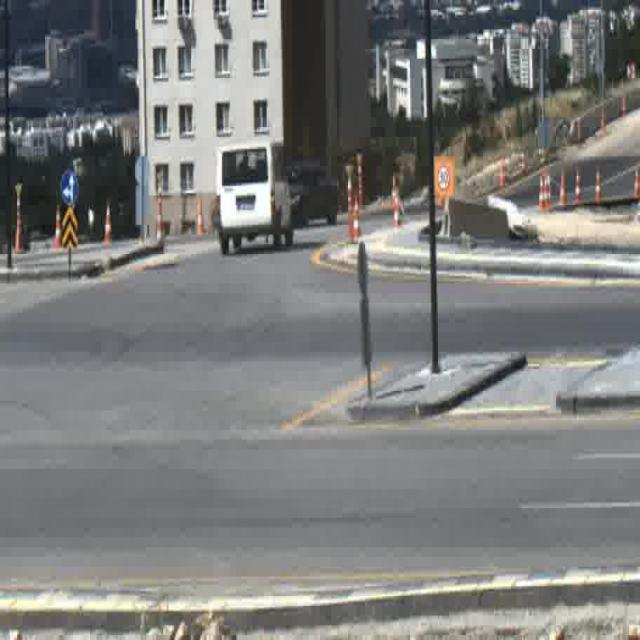Car: (219, 140, 294, 255), (289, 159, 338, 222)
